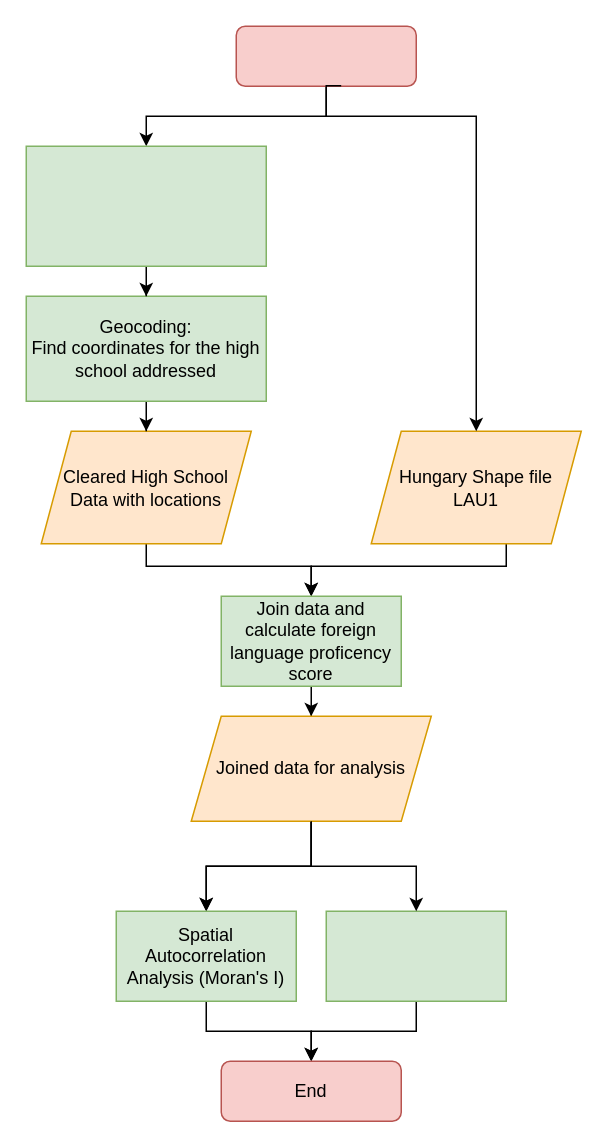
Some shapes in this 608 by 1148 pixel diagram are drawn without their labels. The shapes that lost their labels are listed below. From the top down, each one's centre as x and y in pixels, then its label:
At point (325, 55): "Start".
At point (145, 205): "Webscraping: oktatas.hu to obtain highschool location an final exam data".
At point (415, 955): "Spatial Index Analysis: Location Quotient".
